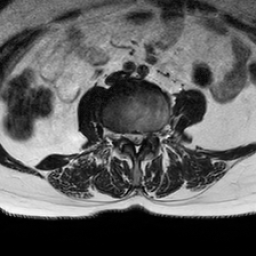CCS_normal: (133, 128, 140, 160)
LFS_severe_stenosis: (147, 124, 155, 145)
LLS_severe_stenosis: (140, 126, 147, 147)
RFS_severe_stenosis: (116, 124, 125, 147)
RLS_stenosis: (125, 126, 133, 147)
